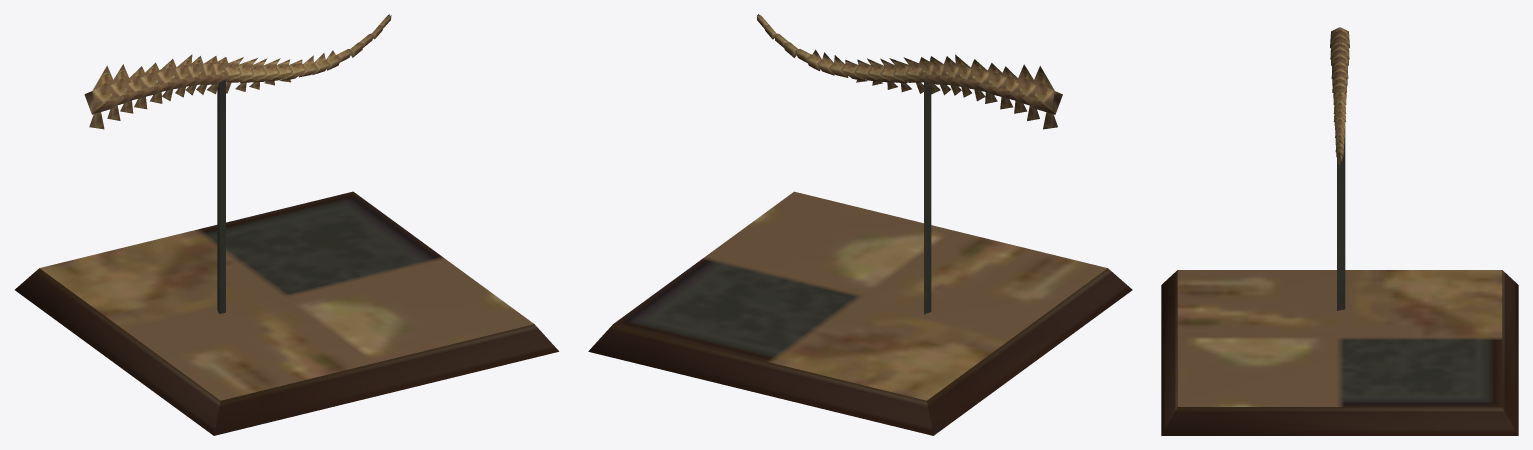
File: int_din_pachy_c.dae
3 renders of one model, left to right at view 1: azimuth 30°, elevation 25°; view 2: azimuth 150°, elevation 25°; view 3: azimuth 270°, elevation 25°, orthographic. The views are drawn at different scales.
Parts seen in each view (by area): view 1: int_din_pachy_c; view 2: int_din_pachy_c; view 3: int_din_pachy_c.
Boxes of the visible parts, x1=… form: int_din_pachy_c: x1=15, y1=14, x2=558, y2=435; int_din_pachy_c: x1=588, y1=14, x2=1132, y2=435; int_din_pachy_c: x1=1161, y1=27, x2=1518, y2=435.
Size of the model in its own units: 62.89 by 48.53 by 58.65.
Materials: 1 (1 with a texture image).
